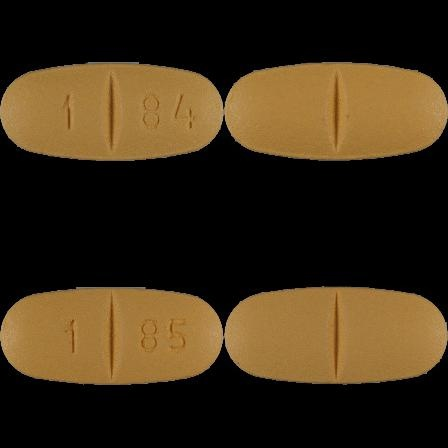33261-841: (0, 0, 224, 224)
